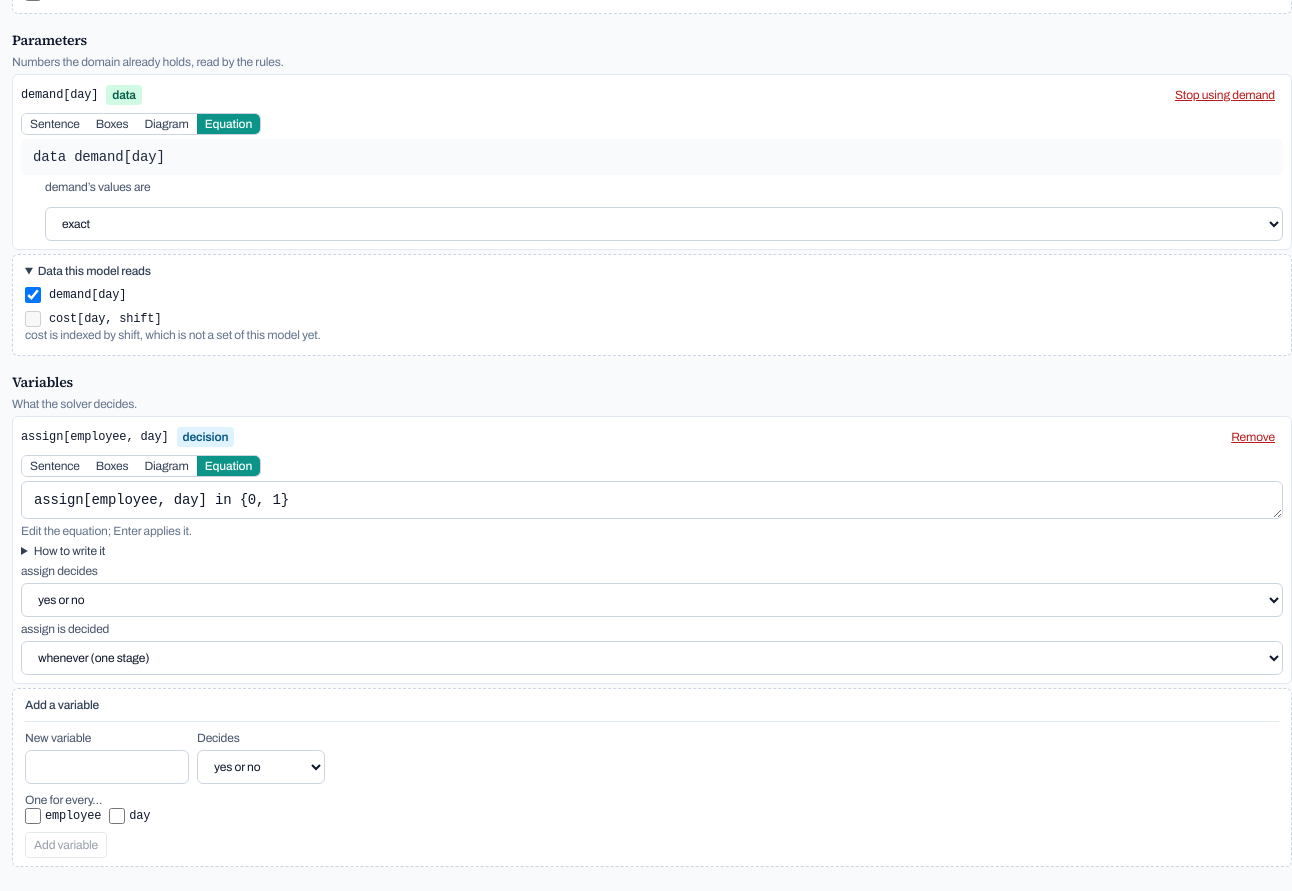
Scenario: DeclarationsEditor › will not add a variable with no index, and says why
(page scrolled)
In the field labelled "New variable": (107,767) [25,750,189,784], type "standby"
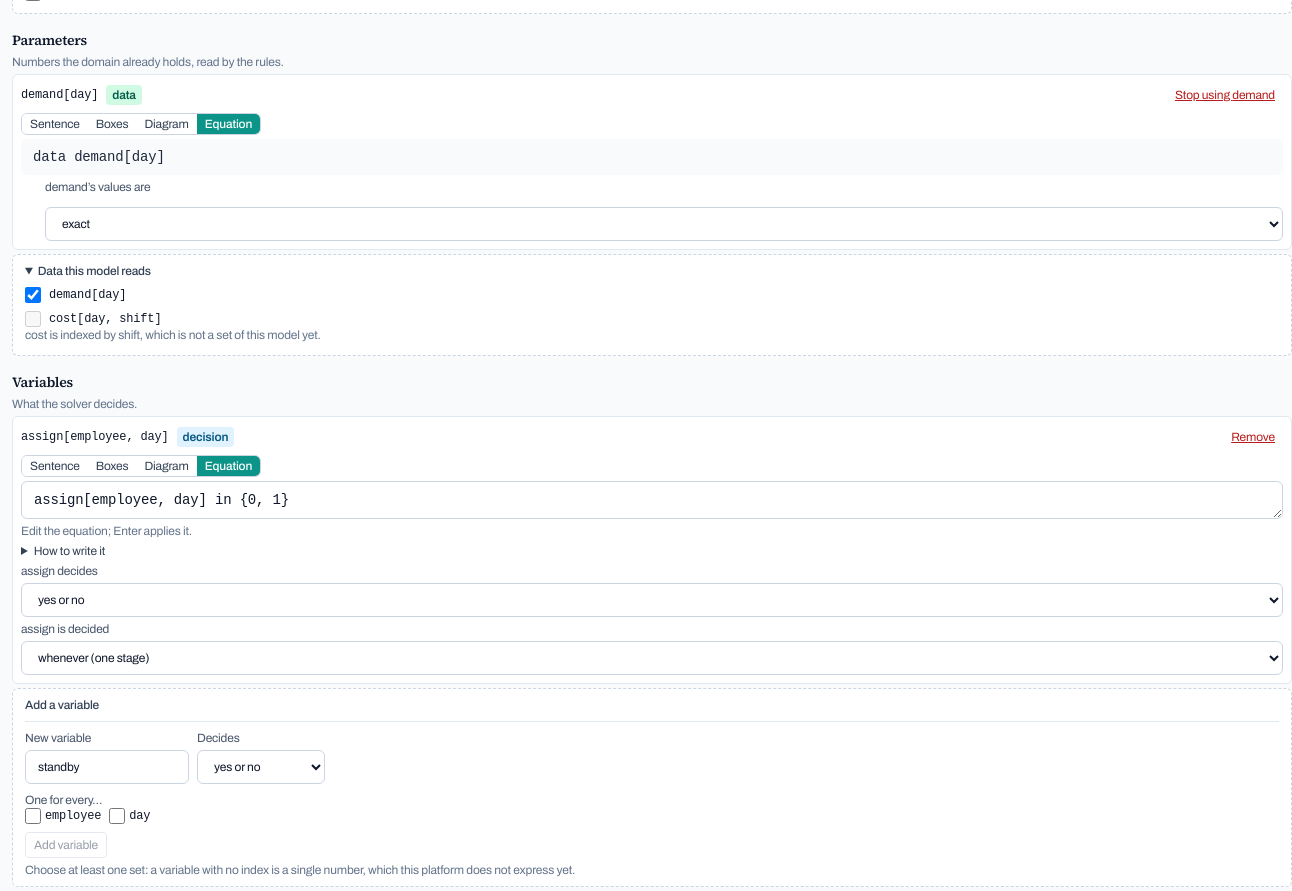
Expected: the button "Add variable" is disabled, [25,832,107,858]
Result: the text "a variable with no index is a single number" is shown at [25,863,575,877]
